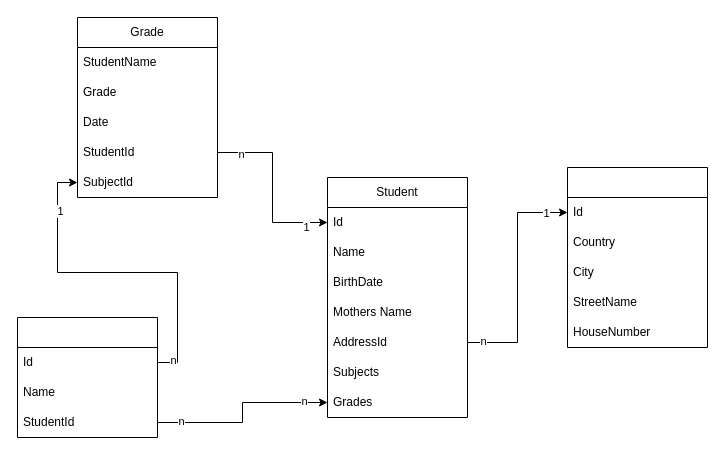
The diagram is 725 pixels wide and 455 high, and some of its shapes have lost their labels. The shapes that lost their labels are listed below. From the top down, each one's box as (x1, y1, x2, y2) in pixels, then its label:
(566, 166, 708, 348): Address
(16, 316, 158, 438): Subject
